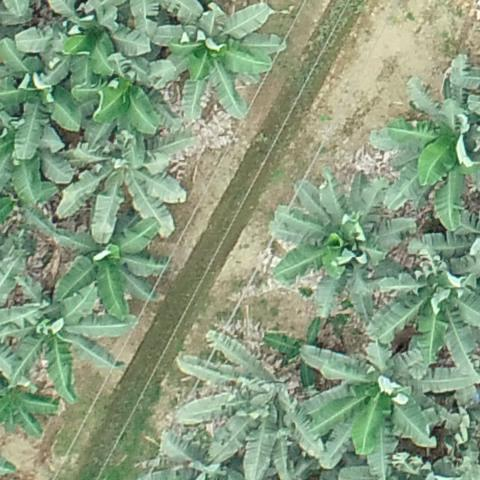Banana-plant: (176, 337, 311, 480), (302, 343, 456, 455), (283, 177, 402, 307), (384, 63, 480, 223), (157, 0, 285, 118), (2, 277, 121, 395), (59, 135, 187, 239), (368, 245, 480, 362), (22, 0, 149, 79), (59, 219, 161, 315), (0, 39, 81, 154), (74, 43, 175, 135)
